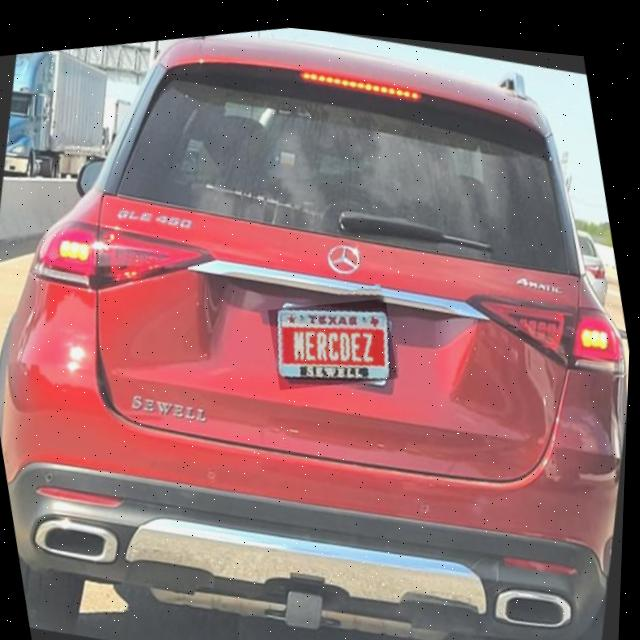LicensePlate: (279, 303, 393, 372)
